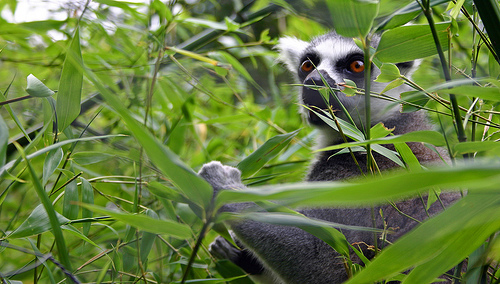cat: (195, 23, 490, 276)
